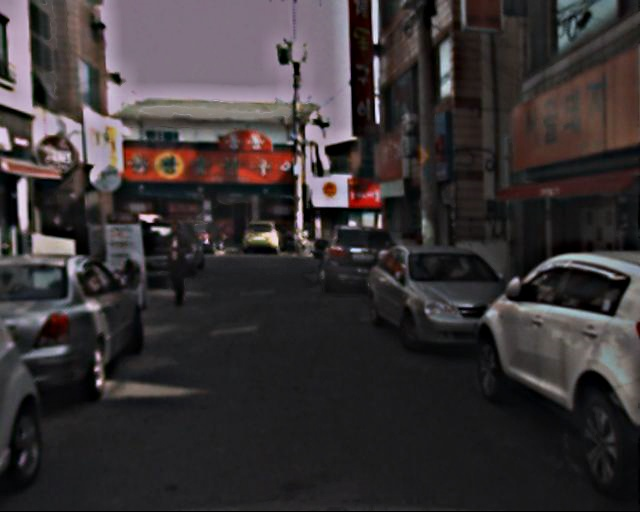person: (159, 218, 198, 307)
